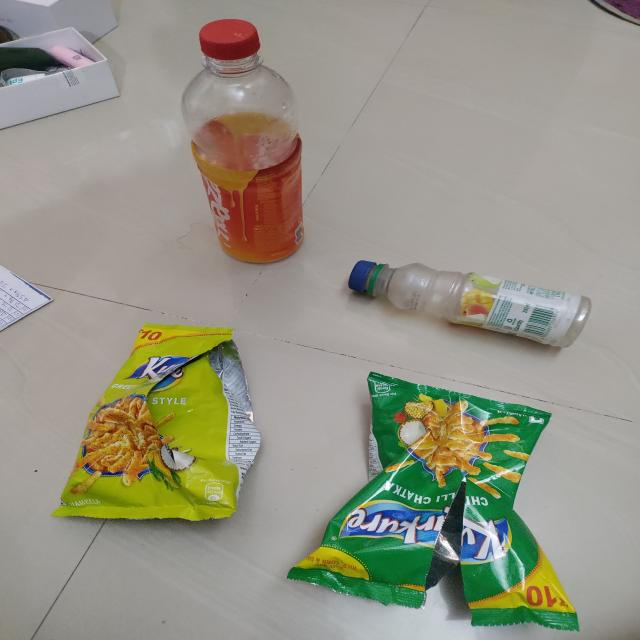plastic: (313, 383, 612, 640), (35, 308, 312, 539), (128, 23, 350, 286), (347, 230, 634, 367)
